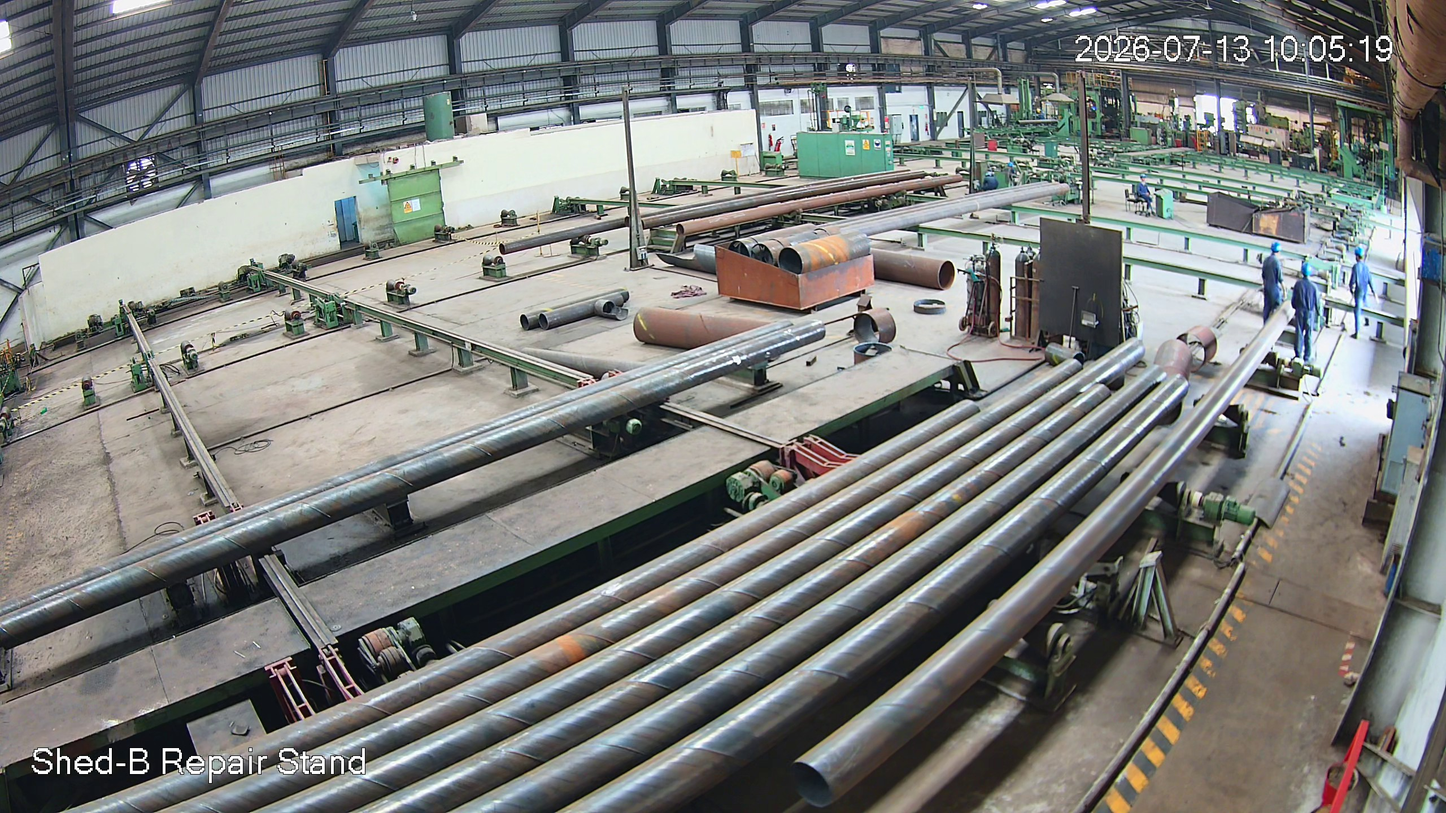Helmet: (1351, 245, 1369, 266), (1301, 261, 1314, 282), (1270, 239, 1280, 255)
Person: (1292, 264, 1317, 362), (1345, 247, 1370, 341), (1263, 241, 1286, 317)
